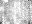person: (4, 1, 8, 3)
